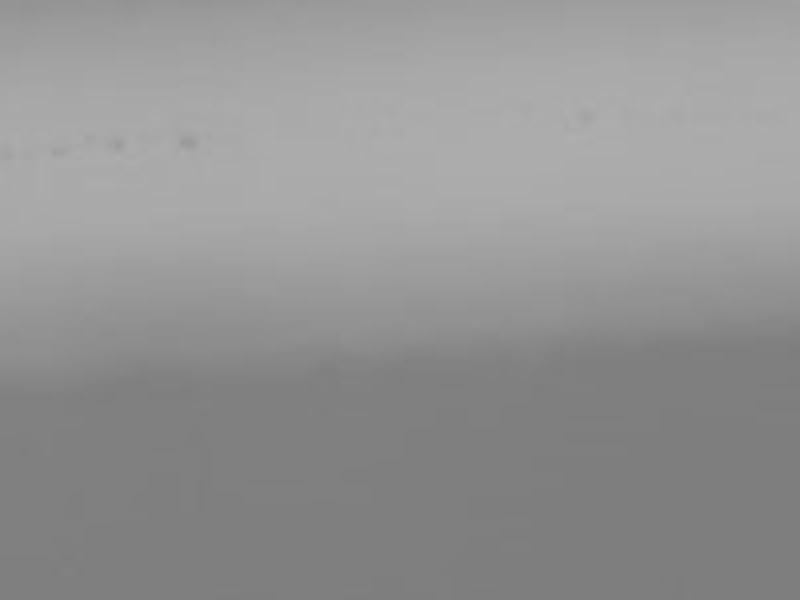defect: (571, 103, 595, 128), (174, 128, 199, 151), (102, 135, 126, 158), (1, 145, 18, 162), (79, 130, 96, 146), (50, 144, 66, 158)
